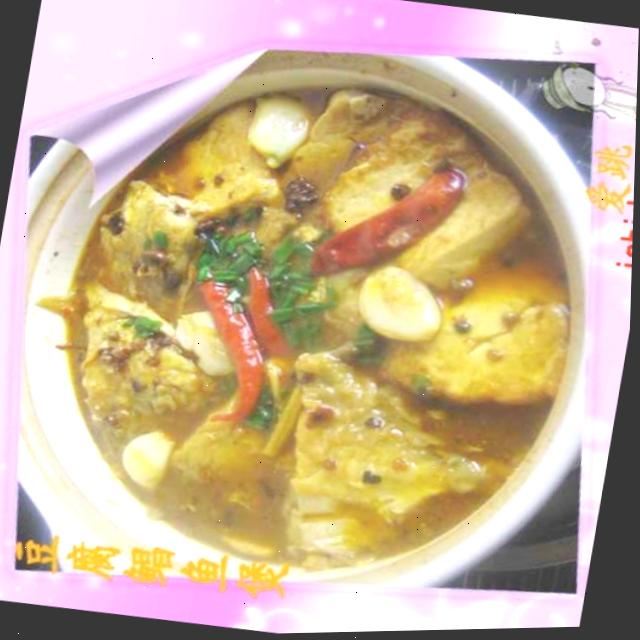豆腐料理: (4, 0, 624, 628)
